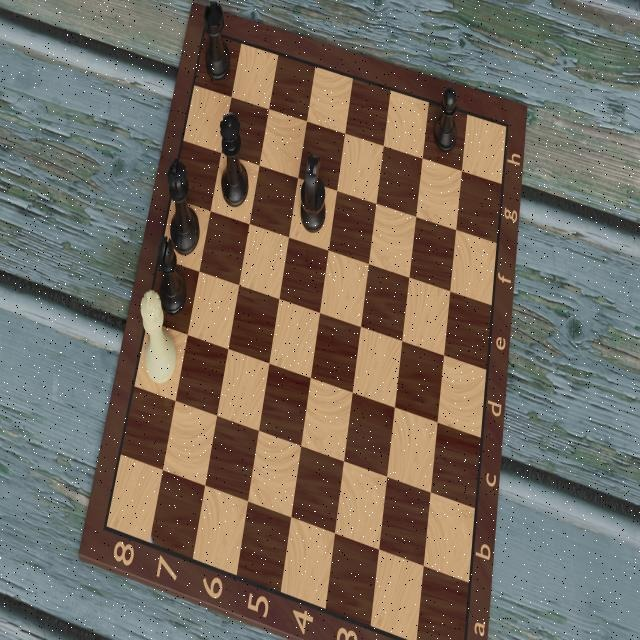black-bishop: (155, 236, 189, 324)
black-king: (164, 156, 204, 259)
black-knight: (298, 151, 329, 237)
black-pawn: (431, 83, 461, 156)
black-queen: (216, 108, 251, 210)
black-rook: (200, 0, 233, 84)
white-king: (139, 283, 178, 388)
